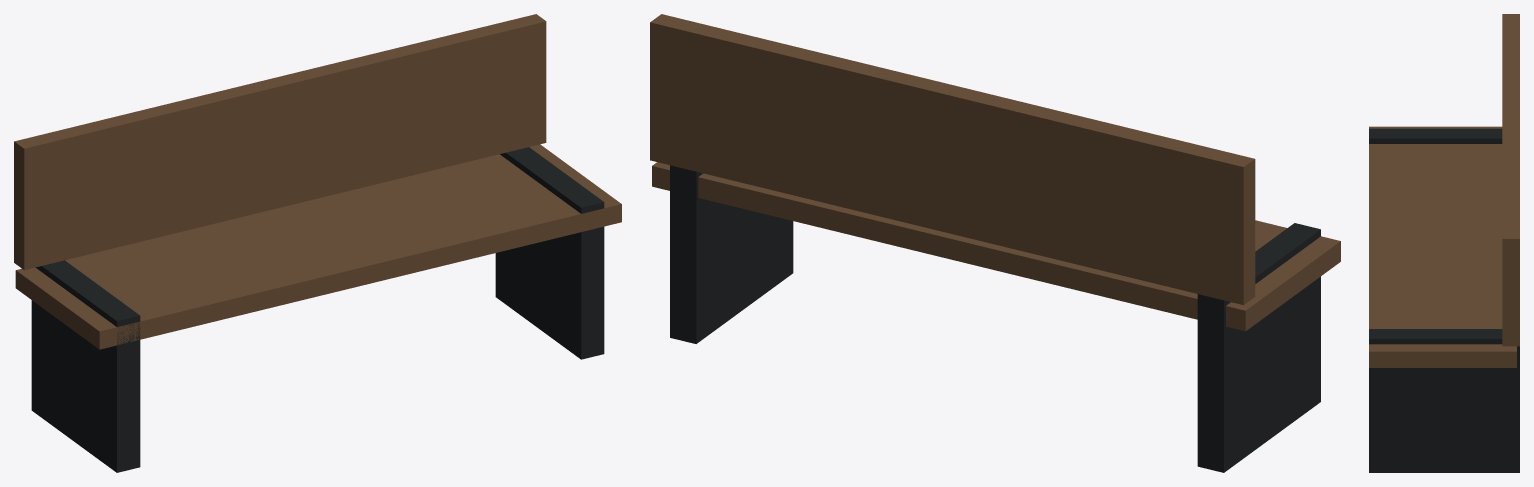
Rendered from bench.glb.
The picture shows the model from 3 angles, left to right: view 1: azimuth 30°, elevation 25°; view 2: azimuth 150°, elevation 25°; view 3: azimuth 270°, elevation 25°; orthographic projection. The views are drawn at different scales.
Parts seen in each view (by area): view 1: bench; view 2: bench; view 3: bench.
Part boxes in pixels (x1=…): bench: x1=14, y1=14, x2=621, y2=472; bench: x1=650, y1=14, x2=1340, y2=472; bench: x1=1369, y1=14, x2=1519, y2=472.
Bounding box in the file's own units: 1.8 × 0.9 × 0.51.
